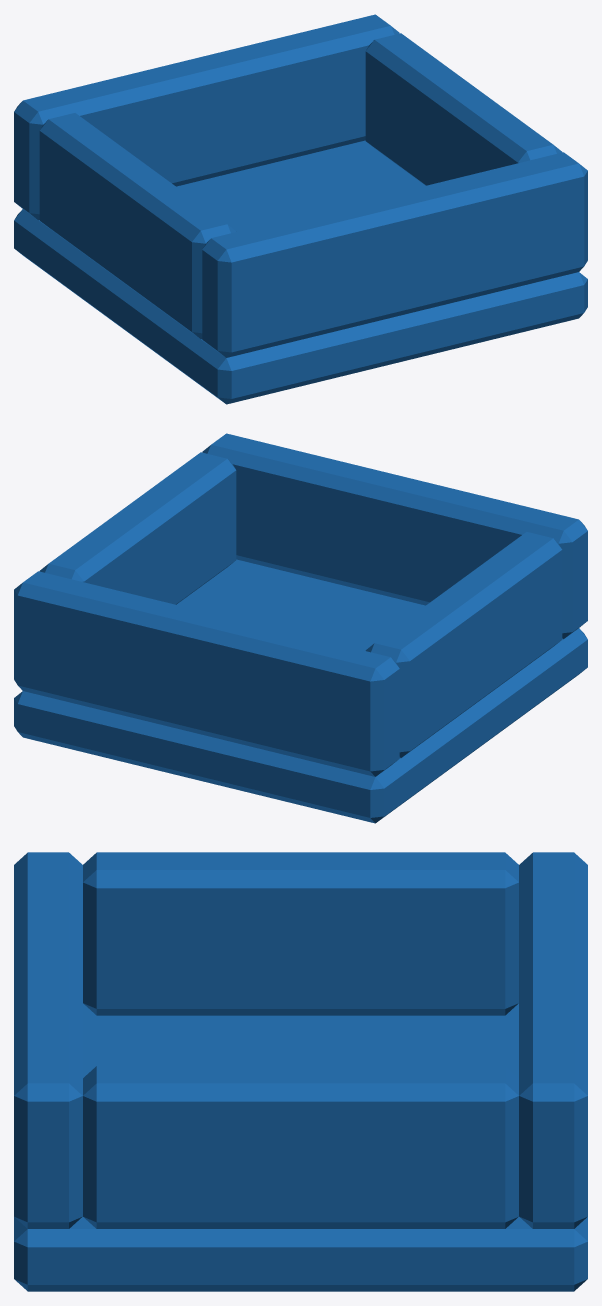
Rendered from product_base_blue.glb.
The picture shows the model from 3 angles, top to bottom: view 1: azimuth 30°, elevation 25°; view 2: azimuth 150°, elevation 25°; view 3: azimuth 270°, elevation 25°; orthographic projection. The views are drawn at different scales.
Parts seen in each view (by area): view 1: Item; view 2: Item; view 3: Item.
Part boxes in pixels (box(x1,y1,x2,y2)): Item: box(14, 14, 587, 404); Item: box(14, 433, 587, 823); Item: box(14, 852, 587, 1291).
Size of the model in its own units: 0.25 by 0.1 by 0.25.
